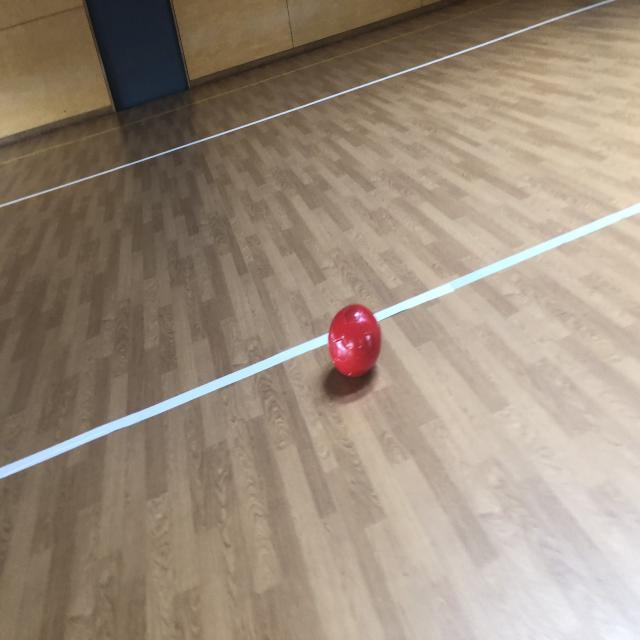red_ball: (328, 304, 383, 379)
